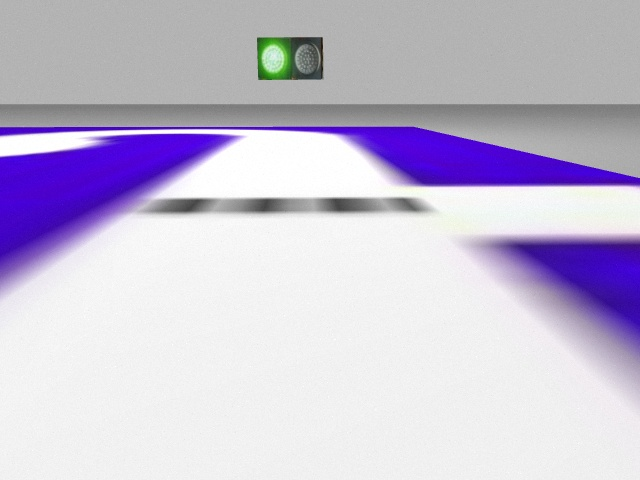green: (257, 37, 293, 79)
